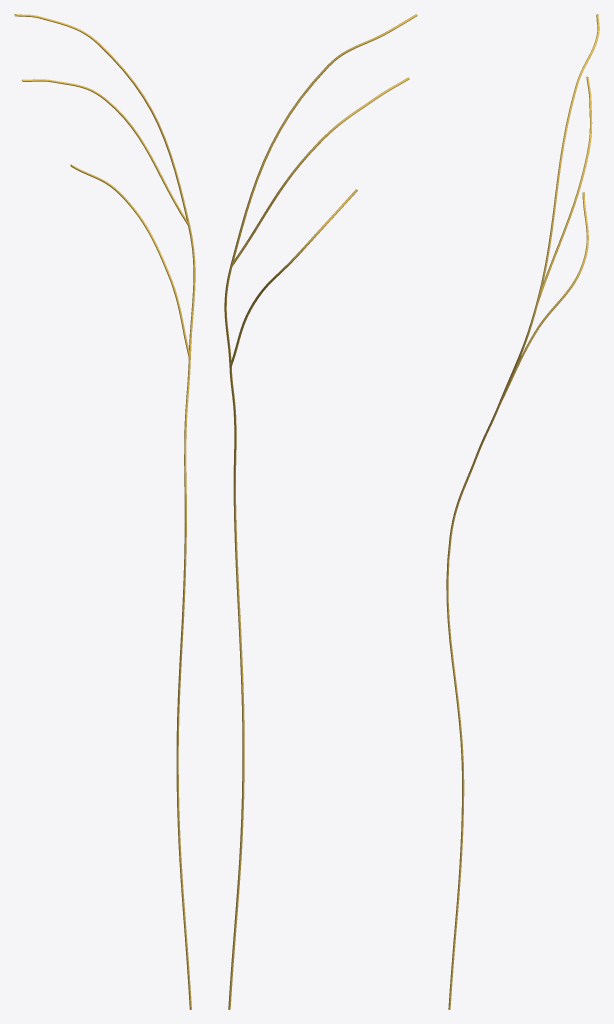
The model's file is Femoral_nerve_left.glb.
The picture shows the model from 3 angles, left to right: view 1: azimuth 30°, elevation 25°; view 2: azimuth 210°, elevation 25°; view 3: azimuth 270°, elevation 25°; orthographic projection. The views are drawn at different scales.
Parts seen in each view (by area): view 1: Femoral_nerve.l_BezierCurve.527; view 2: Femoral_nerve.l_BezierCurve.527; view 3: Femoral_nerve.l_BezierCurve.527.
Boxes of the visible parts, bbox=[...] form: Femoral_nerve.l_BezierCurve.527: bbox=[14, 14, 195, 1009]; Femoral_nerve.l_BezierCurve.527: bbox=[224, 14, 417, 1009]; Femoral_nerve.l_BezierCurve.527: bbox=[446, 14, 599, 1009].
Bounding box in the file's own units: 0.0742 × 0.4698 × 0.0688.
